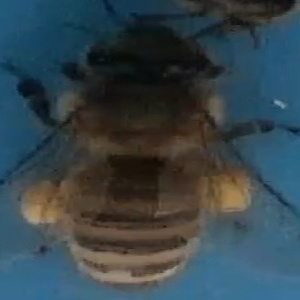bee: (8, 13, 290, 289)
